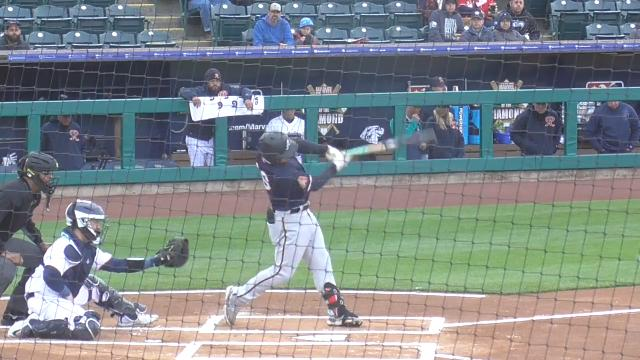bat: (342, 128, 436, 158)
